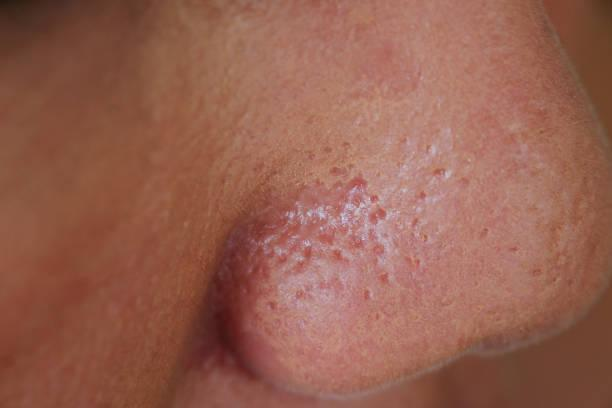Dry-Skin: (68, 136, 290, 322), (411, 70, 612, 221), (194, 53, 324, 261), (431, 209, 612, 342), (71, 32, 226, 156), (54, 319, 251, 408), (302, 244, 452, 354), (267, 112, 357, 201)
